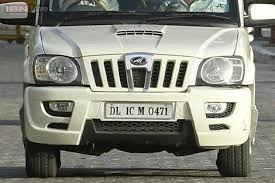numberplate: (104, 101, 173, 120)
